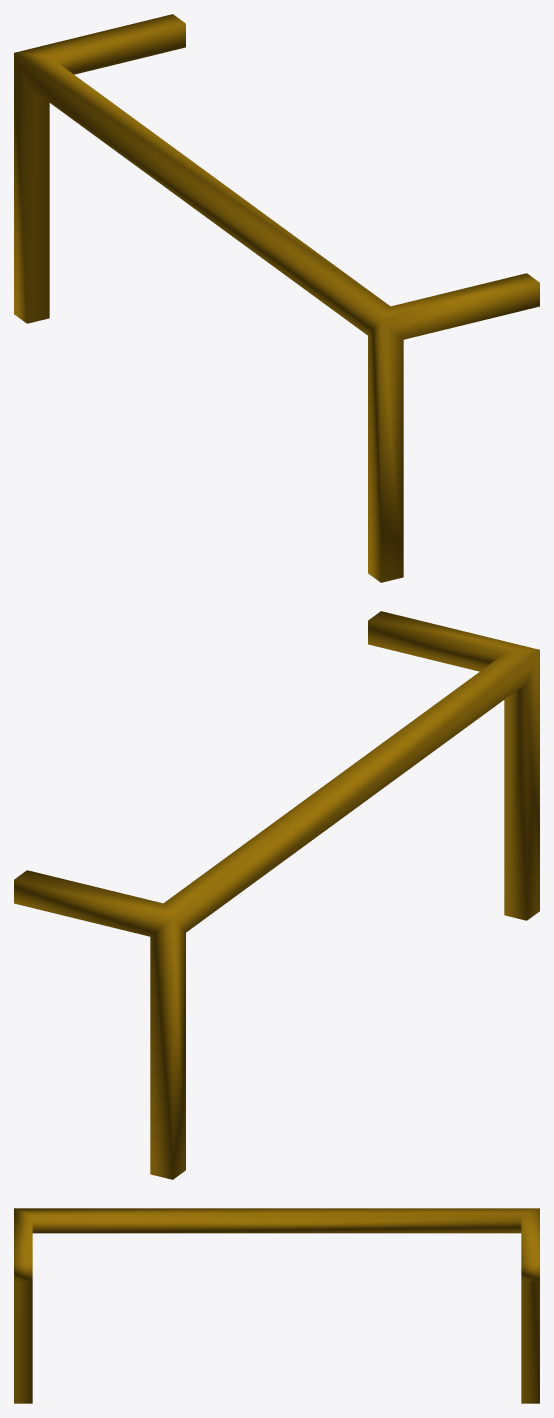
The model's file is Goalsallyback.001.dae.
3 renders of one model, top to bottom at view 1: azimuth 30°, elevation 25°; view 2: azimuth 150°, elevation 25°; view 3: azimuth 270°, elevation 25°, orthographic. The views are drawn at different scales.
Visible parts, largest first — view 1: visual_0_field_1_6; view 2: visual_0_field_1_6; view 3: visual_0_field_1_6.
Boxes of the visible parts, box(x1,y1,x2,y2) form: visual_0_field_1_6: box(14, 14, 539, 582); visual_0_field_1_6: box(14, 611, 539, 1179); visual_0_field_1_6: box(14, 1208, 539, 1403).
Size of the model in its own units: 0.7 by 2.8 by 1.1.
